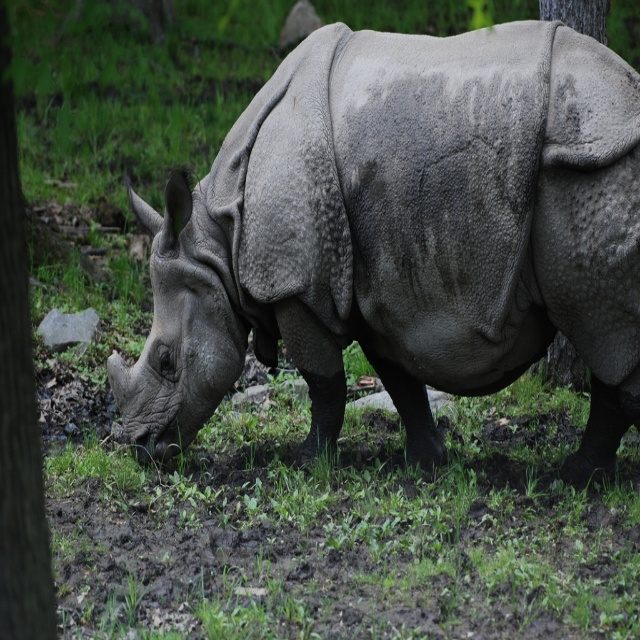Rhinoceros: (106, 14, 640, 470)
